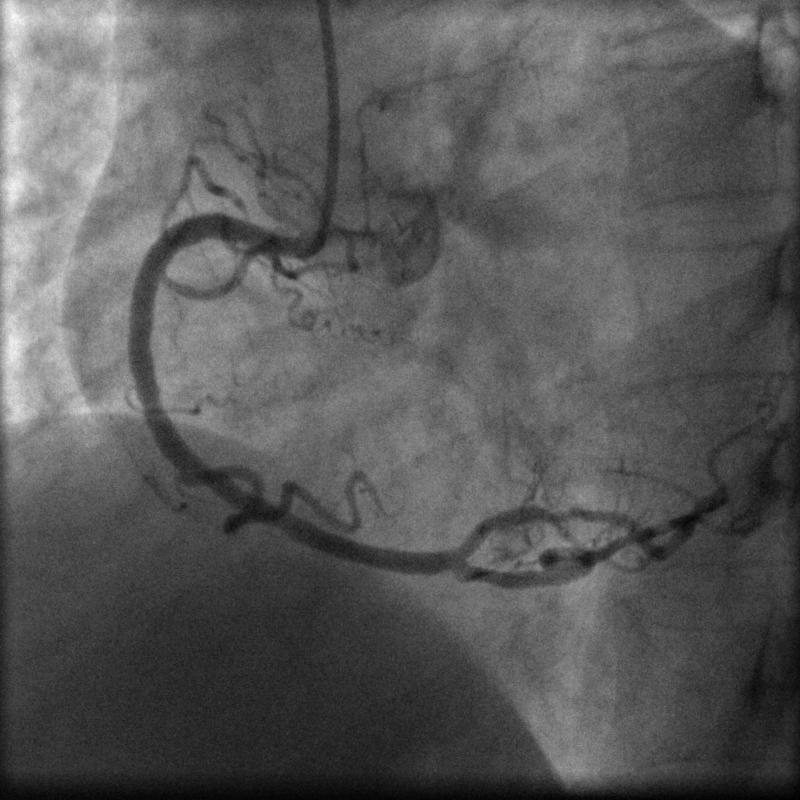Stenosis: (534, 496, 594, 528)
